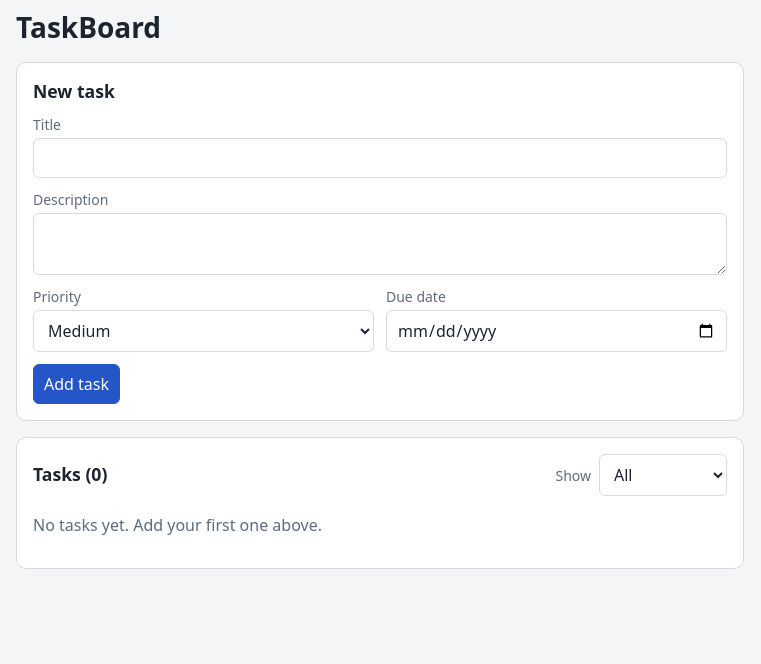
Test case: App › shows an error and keeps the form contents when saving fails
expect the text "No tasks yet. Add your first one above." is shown: met, box [33,514,322,536]
Type "Keep me" into the field labelled "Title" at (380, 158), box [33,138,727,178]
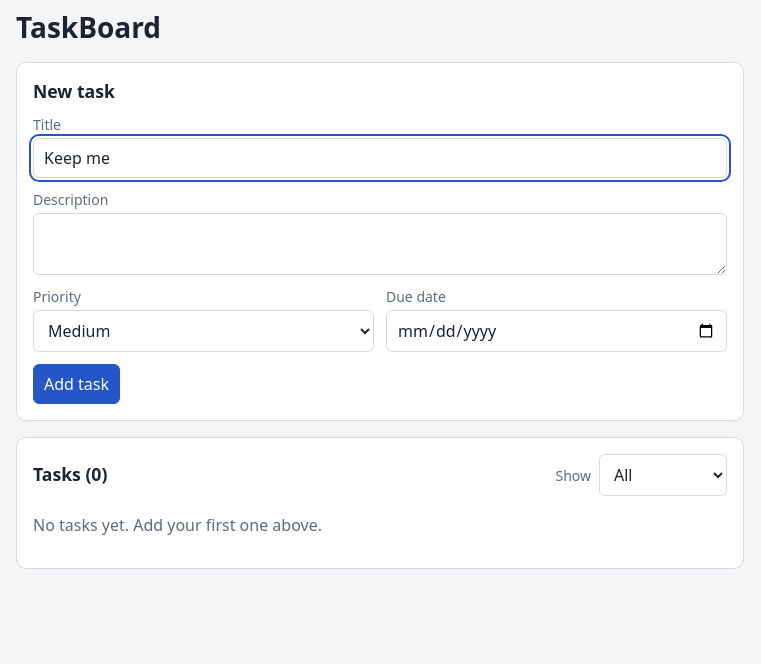
Click the button "Add task" at (76, 384), box [33,364,120,404]
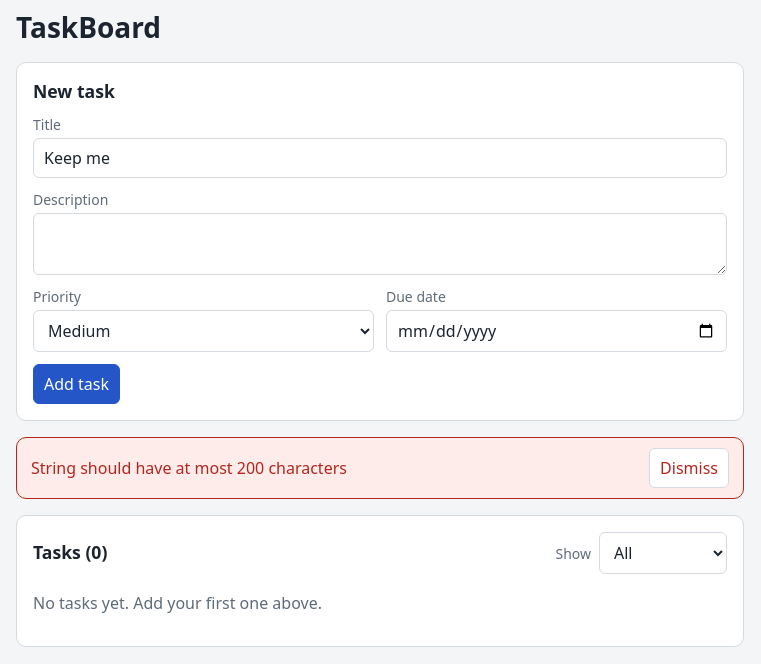
expect the message shows "at most 200 characters": met, box [31,457,347,479]
